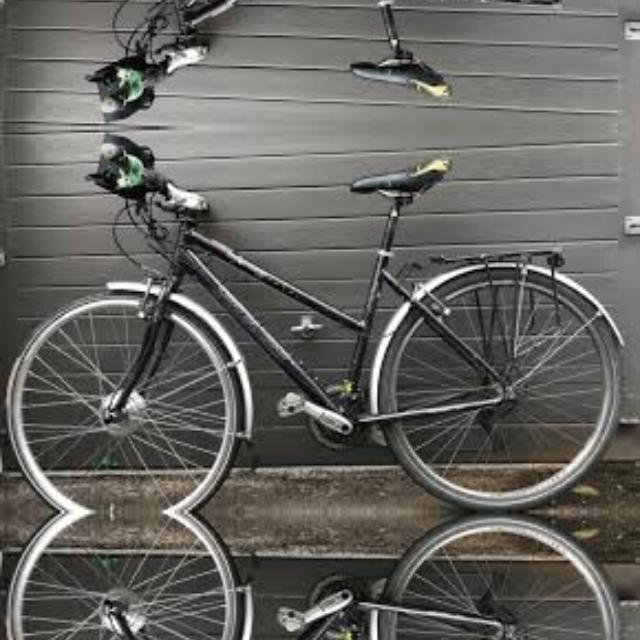obstacle: (5, 143, 640, 512), (4, 512, 639, 640), (4, 0, 639, 113)
